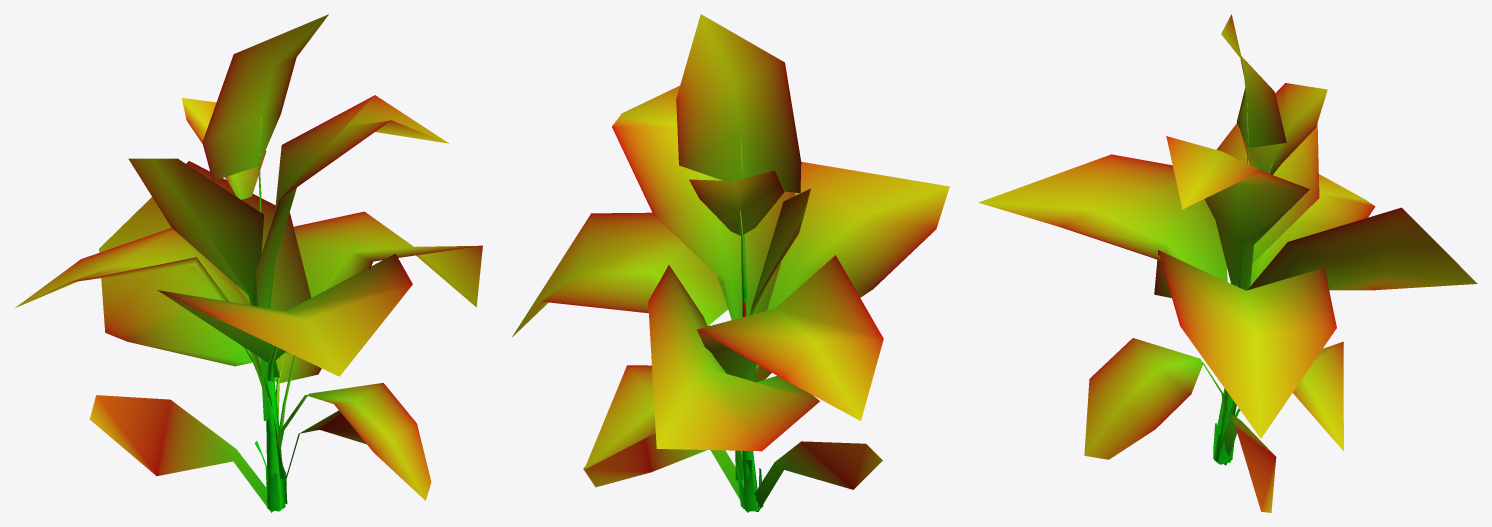
Rendered from Cat Palm_LOD3_Var1_tjejafeia.fbx.
The picture shows the model from 3 angles, left to right: view 1: azimuth 30°, elevation 25°; view 2: azimuth 150°, elevation 25°; view 3: azimuth 270°, elevation 25°; orthographic projection. The views are drawn at different scales.
Visible parts, largest first — view 1: _9e99_Var1_LOD3; view 2: _9e99_Var1_LOD3; view 3: _9e99_Var1_LOD3.
Part boxes in pixels (x1=…): _9e99_Var1_LOD3: x1=14, y1=14, x2=482, y2=512; _9e99_Var1_LOD3: x1=512, y1=14, x2=949, y2=512; _9e99_Var1_LOD3: x1=978, y1=14, x2=1477, y2=512.
Size of the model in its own units: 140 by 160 by 159.
